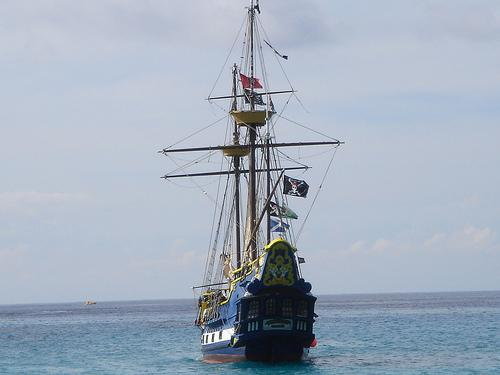Ship: (158, 3, 346, 364)
